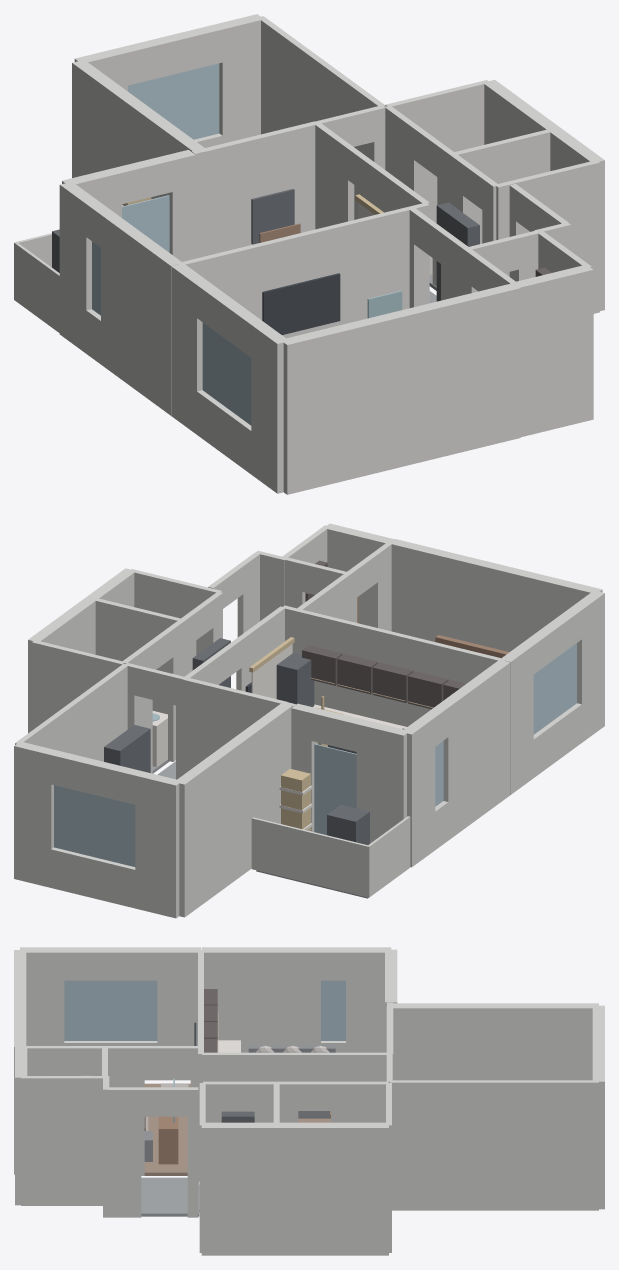
File: kvartira-graphite-two-guest.glb
3 renders of one model, top to bottom at view 1: azimuth 30°, elevation 25°; view 2: azimuth 150°, elevation 25°; view 3: azimuth 270°, elevation 25°, orthographic. The views are drawn at different scales.
Parts seen in each view (by area): view 1: wall_w_l_s_166_612_0.0, wall_w_dividing_168_644_0.0, wall_w_closet_s_612_752_0.0, wall_w_k_w_559_791_0.0, wall_w_top_s_426_660_0.0, wall_w_top_w_20_423_0.0, wall_w_top_e_20_425_0.0, wall_w_wc_s_777_971_0.0, wall_w_l_w_1057_1143_0.0, wall_w_top_n_691_771_0.0, wall_w_bath_n_777_971_0.0, wall_w_k_w_423_511_0.0 (+40 smaller); view 2: wall_w_l_s_166_612_0.0, wall_w_top_w_20_423_0.0, wall_w_dividing_168_644_0.0, wall_w_k_w_559_791_0.0, wall_w_top_n_422_510_0.0, wall_w_log_n_159_409_0.0, wall_w_top_n_691_771_0.0, wall_w_top_e_20_425_0.0, wall_w_top_n_510_691_0.8, wall_w_k_n1_165_266_0.0, wall_w_k_n2_408_643_0.0, wall_w_bath_n_777_971_0.0 (+51 smaller); view 3: wall_w_top_e_20_425_0.0, wall_w_bath_e_427_791_0.0, wall_w_top_w_20_423_0.0, wall_w_k_w_559_791_0.0, wall_w_closet_e_978_1141_0.0, wall_w_l_w_877_1057_0.8, wall_w_entry_e_908_972_0.0, wall_w_l_w_792_877_0.0, wall_w_k_w_423_511_0.0, wall_w_l_w_1057_1143_0.0, wall_w_l_w_877_1057_2.1, wall_w_k_e_625_790_0.0 (+28 smaller).
Boxes of the visible parts, <box> form: wall_w_l_s_166_612_0.0: <box>281,283,520,494</box>; wall_w_dividing_168_644_0.0: <box>178,202,429,338</box>; wall_w_closet_s_612_752_0.0: <box>516,265,593,437</box>; wall_w_k_w_559_791_0.0: <box>101,212,182,415</box>; wall_w_top_s_426_660_0.0: <box>204,119,327,256</box>; wall_w_top_w_20_423_0.0: <box>72,60,204,199</box>; wall_w_top_e_20_425_0.0: <box>258,16,385,219</box>; wall_w_wc_s_777_971_0.0: <box>495,161,599,313</box>; wall_w_l_w_1057_1143_0.0: <box>251,322,289,493</box>; wall_w_top_n_691_771_0.0: <box>216,14,263,143</box>; wall_w_bath_n_777_971_0.0: <box>385,80,489,223</box>; wall_w_k_w_423_511_0.0: <box>59,183,98,353</box>; wall_w_l_s_166_612_0.0: <box>390,539,602,651</box>; wall_w_top_w_20_423_0.0: <box>174,703,292,917</box>; wall_w_dividing_168_644_0.0: <box>282,605,505,726</box>; wall_w_k_w_559_791_0.0: <box>437,659,510,840</box>; wall_w_top_n_422_510_0.0: <box>135,771,181,918</box>; wall_w_log_n_159_409_0.0: <box>251,817,368,897</box>; wall_w_top_n_691_771_0.0: <box>14,742,56,887</box>; wall_w_top_e_20_425_0.0: <box>15,663,127,761</box>; wall_w_top_n_510_691_0.8: <box>54,785,135,866</box>; wall_w_k_n1_165_266_0.0: <box>356,719,409,843</box>; wall_w_k_n2_408_643_0.0: <box>183,679,295,774</box>; wall_w_bath_n_777_971_0.0: <box>32,641,124,730</box>; wall_w_top_e_20_425_0.0: <box>390,1080,598,1210</box>; wall_w_bath_e_427_791_0.0: <box>201,1122,388,1255</box>; wall_w_top_w_20_423_0.0: <box>391,1003,598,1080</box>; wall_w_k_w_559_791_0.0: <box>201,947,320,1052</box>; wall_w_closet_e_978_1141_0.0: <box>21,1076,104,1205</box>; wall_w_l_w_877_1057_0.8: <box>64,980,157,1040</box>; wall_w_entry_e_908_972_0.0: <box>108,1087,141,1217</box>; wall_w_l_w_792_877_0.0: <box>157,947,200,1080</box>; wall_w_k_w_423_511_0.0: <box>346,947,391,1052</box>; wall_w_l_w_1057_1143_0.0: <box>20,947,64,1045</box>; wall_w_l_w_877_1057_2.1: <box>64,947,157,980</box>; wall_w_k_e_625_790_0.0: <box>202,1052,286,1111</box>.
Bounding box in the file's own units: 8.24 × 2.77 × 11.41.
